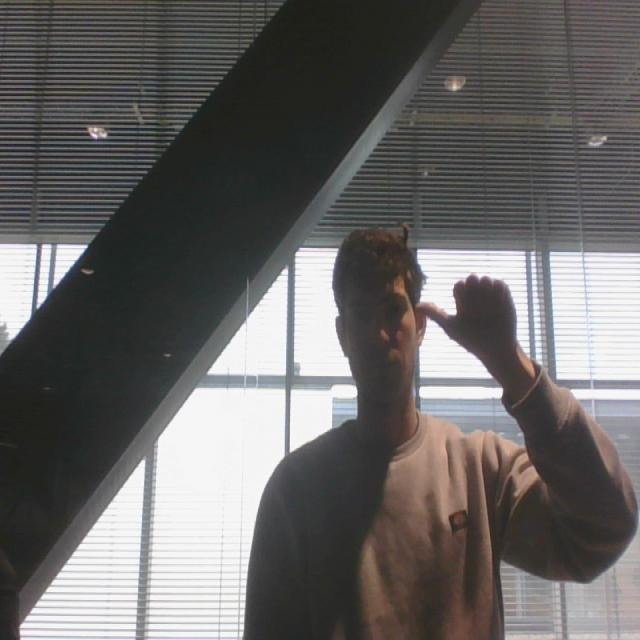left: (409, 269, 526, 362)
